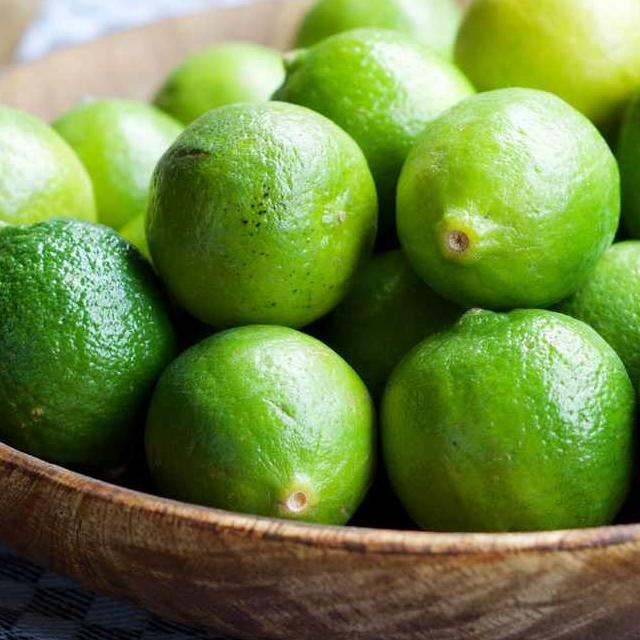lime: (384, 310, 639, 534), (142, 102, 376, 332), (397, 90, 627, 312), (145, 327, 377, 529), (0, 219, 183, 468), (49, 101, 190, 253), (0, 109, 96, 238)
